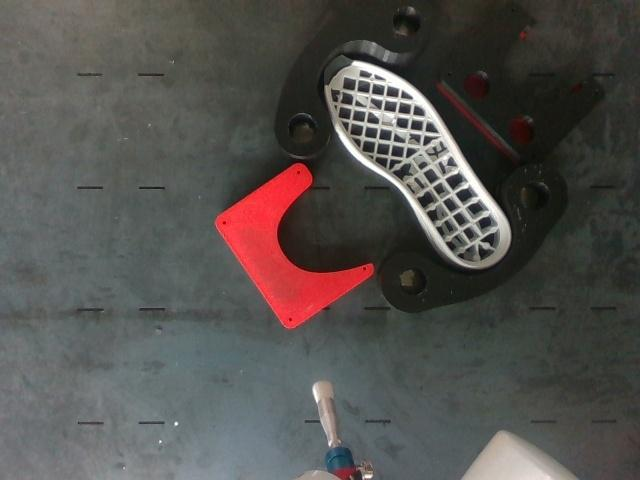shoes: (326, 56, 510, 268)
